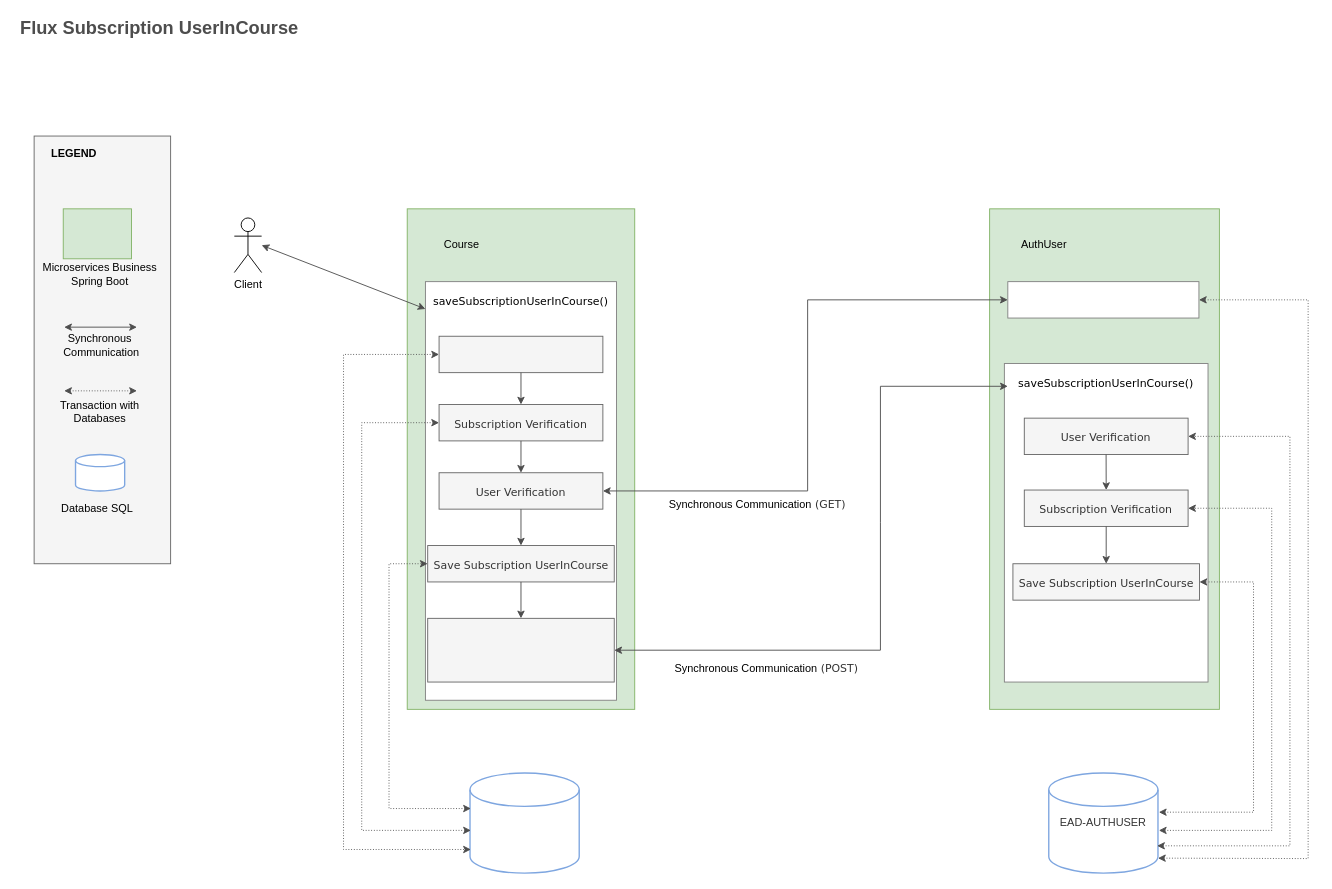
This 1332x889 diagram has some shape labels left out. The shapes that lost their labels are listed below. From the top down, each one's box as (x1, y1, x2, y2) in pixels, then its label:
(1007, 281, 1199, 318): getOneUserById()
(438, 335, 603, 373): Course Verification
(74, 453, 125, 491): DB
(427, 617, 614, 682): Send Subscription UserInCourse To AuthUser
(469, 772, 579, 873): EAD-COURSE
